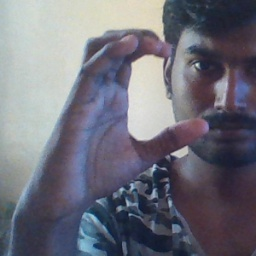C: (75, 25, 214, 162)
